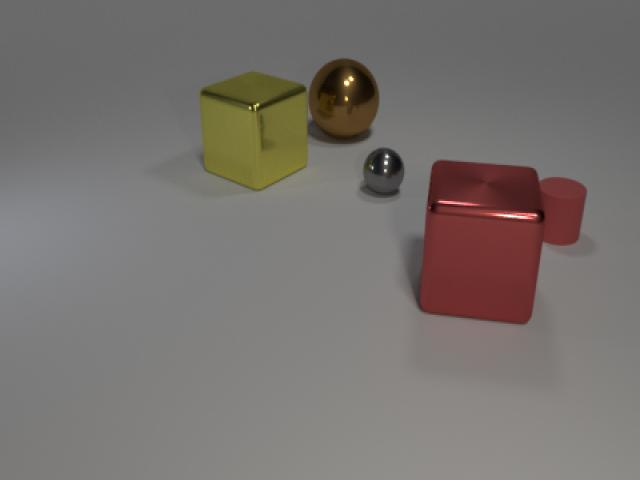cylinder: (534, 171, 590, 252)
round ball: (308, 52, 383, 144), (360, 144, 408, 199)
